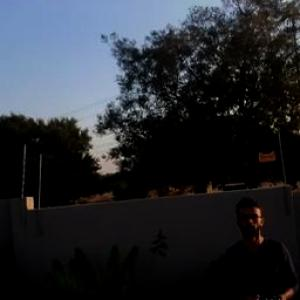follow: (220, 194, 300, 299)
